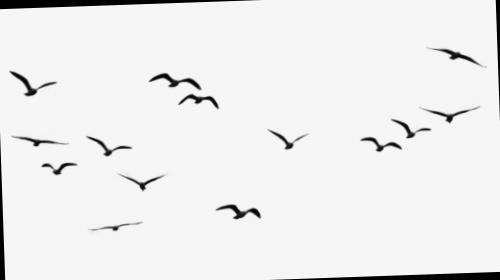bird: (205, 188, 272, 228), (254, 119, 314, 159), (2, 64, 60, 104), (80, 208, 146, 239), (80, 127, 138, 159)
